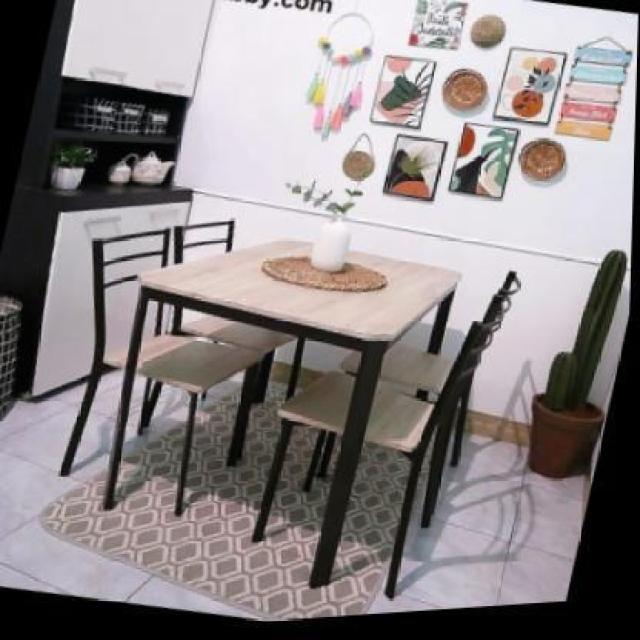tables: (134, 235, 461, 596)
